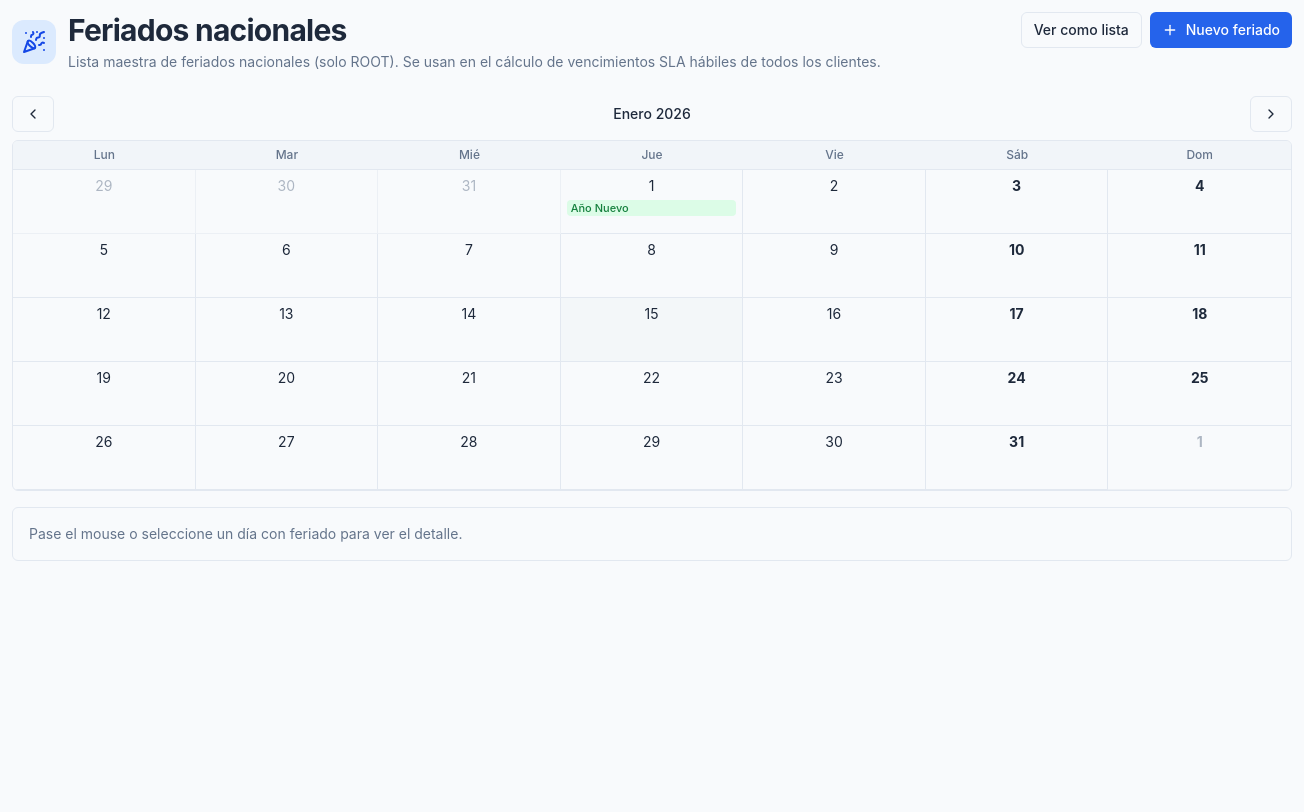
Scenario: FeriadosGlobalesAdminView (sdd/feriados-configurables) › renderiza la lista ordenada por fecha (tal cual la manda el backend), cada fila con el badge verde de origen
The image size is (1304, 812).
Click the button "Ver como lista" at x=1081, y=30, box [1021,12,1142,48]
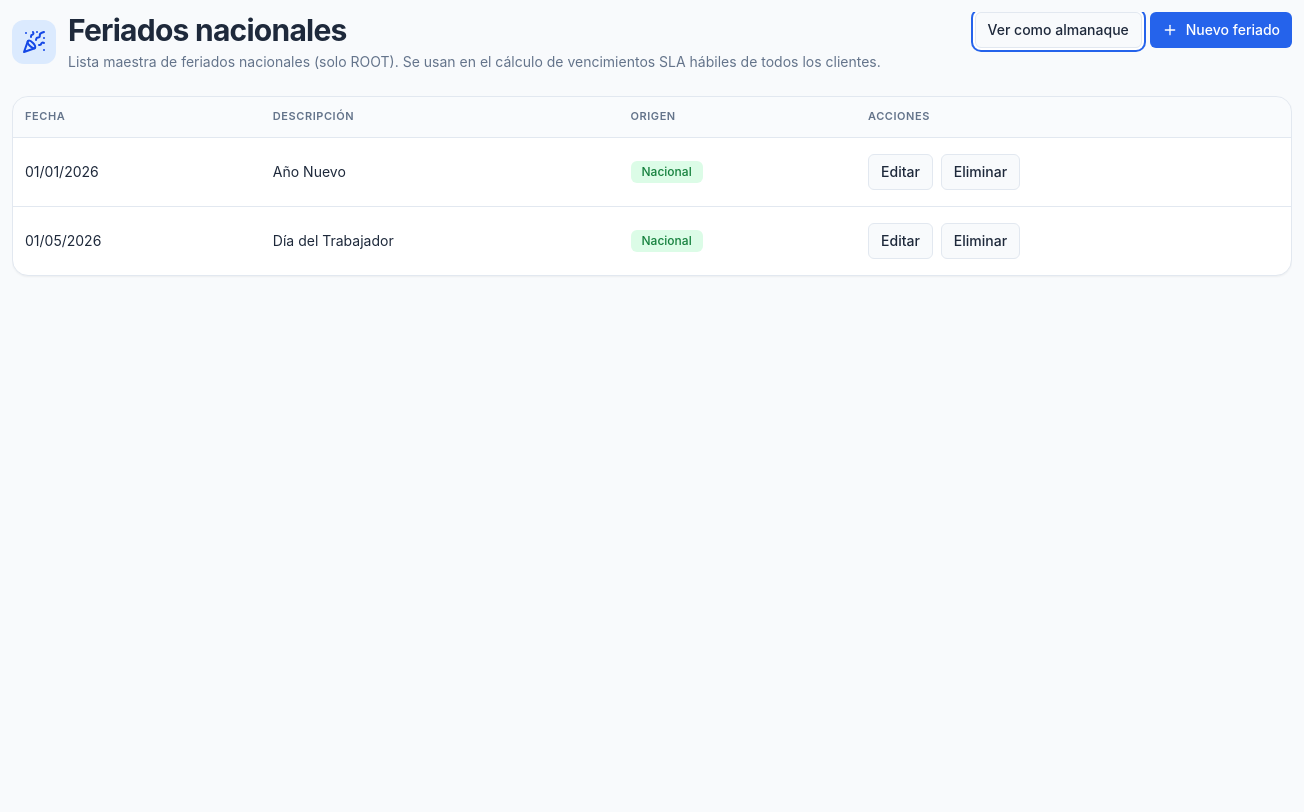
Now the row "01/01/2026 Año Nuevo Nacional Editar Eliminar" is shown, box [13,137,1291,206]
Now the row "01/05/2026 Día del Trabajador Nacional Editar Eliminar" is shown, box [13,206,1291,274]
Now the number of elements with test id "origen-feriado-badge" is 2, box [630,160,703,182]; [630,230,703,252]
